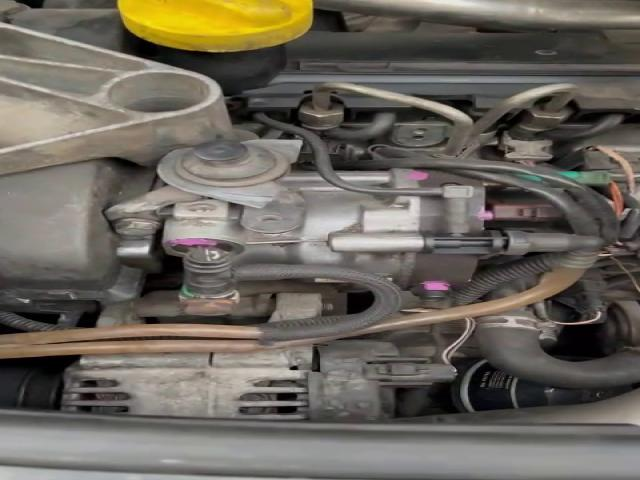alternator: (64, 346, 314, 419)
high_pressure_pump: (161, 168, 508, 300)
